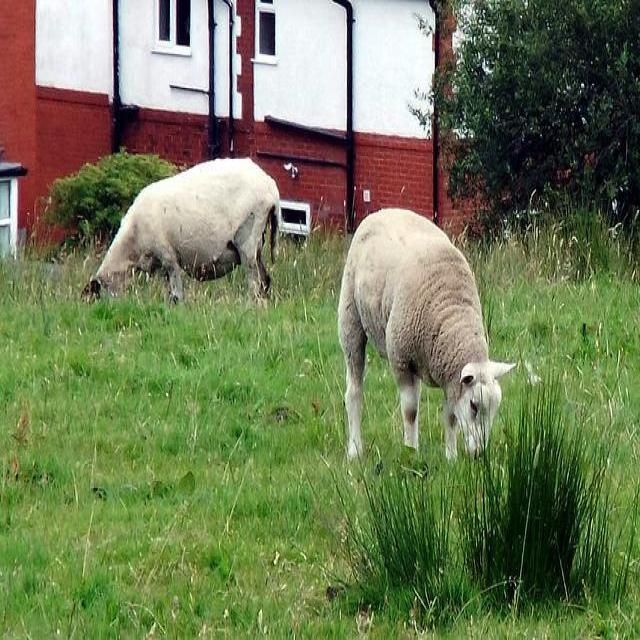Sheep: (337, 210, 517, 461), (79, 156, 281, 308)
